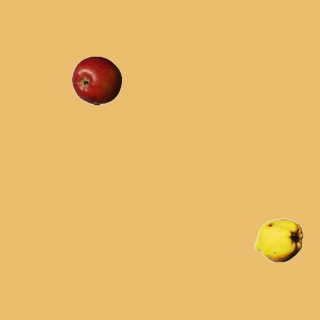Apple Braeburn: (71, 55, 121, 105)
Quince: (253, 215, 303, 265)
